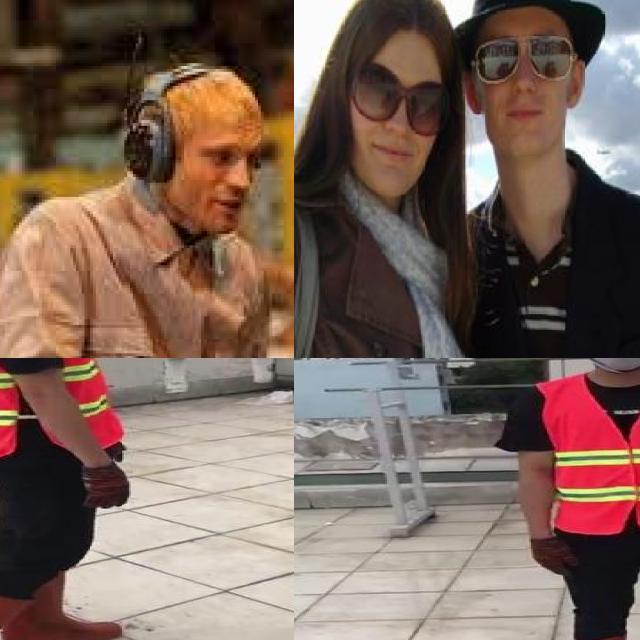Ear-protection: (121, 69, 188, 187)
boots: (0, 568, 123, 640)
face_mask: (575, 358, 640, 373)
face_nomask: (472, 39, 574, 128), (356, 68, 444, 170)
glasses: (350, 60, 452, 141), (470, 32, 580, 85)
hand_glove: (72, 466, 133, 509), (531, 537, 577, 576)
head_nohelmet: (340, 0, 451, 58), (454, 0, 596, 37)
person: (435, 0, 640, 358), (294, 0, 459, 358), (0, 358, 156, 640), (502, 358, 640, 640)
vest: (543, 372, 640, 533), (0, 358, 123, 461)
